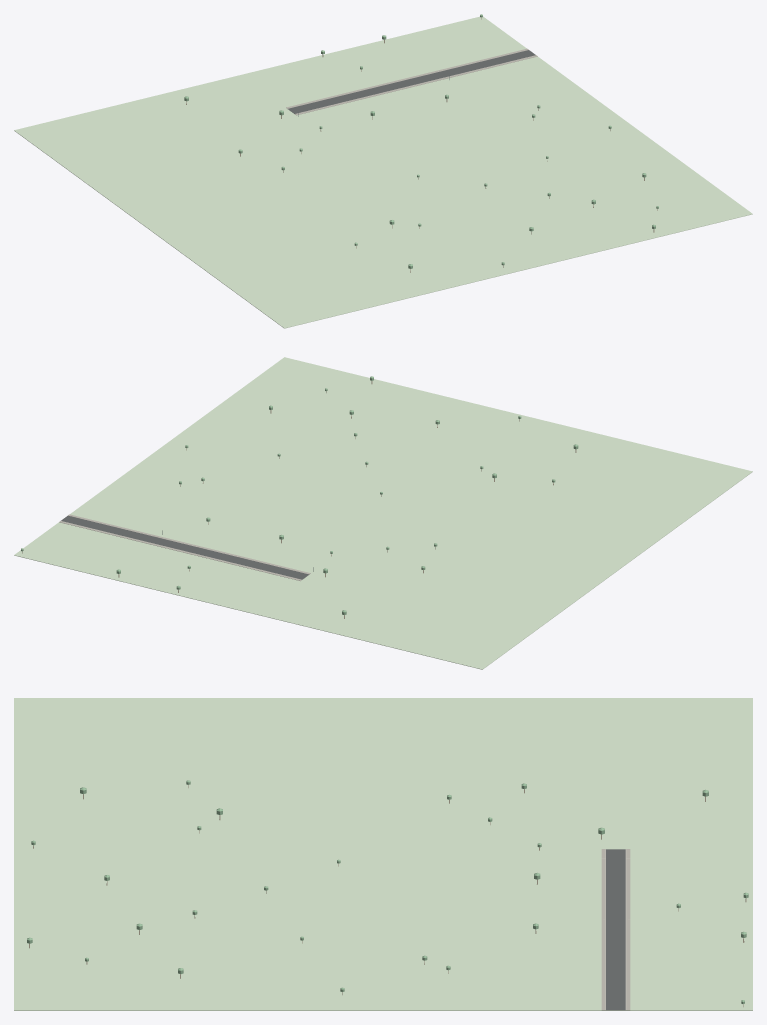
The model's file is chunk_0_4_low.glb.
The picture shows the model from 3 angles, top to bottom: view 1: azimuth 30°, elevation 25°; view 2: azimuth 150°, elevation 25°; view 3: azimuth 270°, elevation 25°; orthographic projection. The views are drawn at different scales.
Visible parts, largest first — view 1: city_grass, city_world_asphalt, city_world_sidewalk; view 2: city_grass, city_world_asphalt, city_world_sidewalk; view 3: city_grass, city_world_asphalt, city_world_sidewalk, city_foliage_dark.
Boxes of the visible parts, left/top/right/bottom form: city_grass: left=14, top=16, right=752, bottom=328; city_world_asphalt: left=288, top=50, right=535, bottom=113; city_world_sidewalk: left=286, top=48, right=537, bottom=115; city_grass: left=14, top=357, right=752, bottom=669; city_world_asphalt: left=61, top=516, right=308, bottom=579; city_world_sidewalk: left=59, top=514, right=310, bottom=580; city_grass: left=14, top=698, right=752, bottom=1010; city_world_asphalt: left=606, top=849, right=625, bottom=1010; city_world_sidewalk: left=601, top=849, right=630, bottom=1010; city_foliage_dark: left=27, top=780, right=748, bottom=1003.
Size of the model in its own units: 512 by 9.57 by 512.
